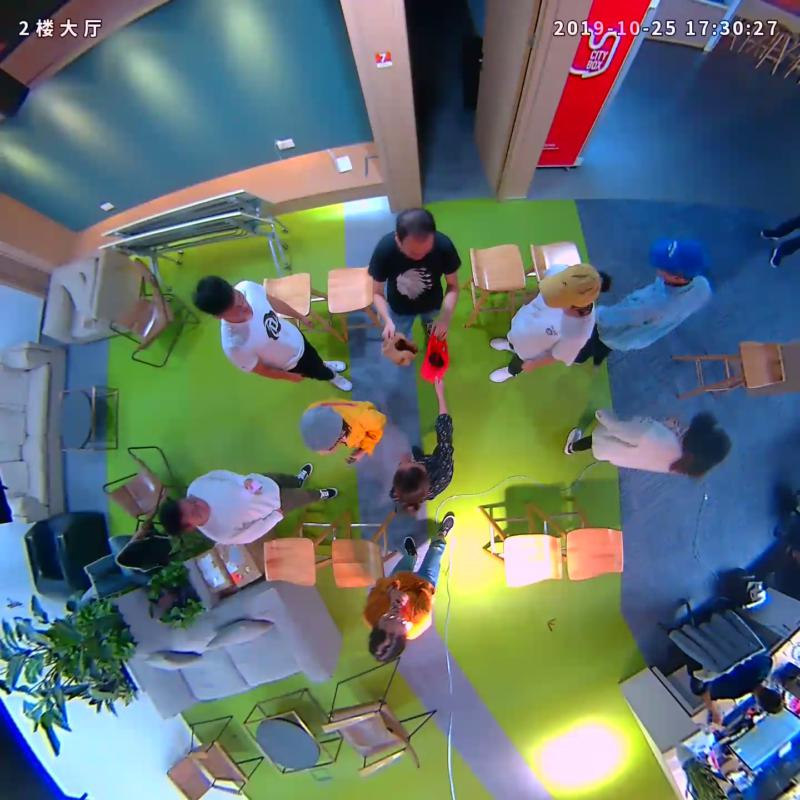head: (535, 261, 603, 311), (683, 411, 732, 469), (192, 275, 252, 322), (649, 238, 705, 286), (394, 207, 437, 260), (369, 607, 408, 664), (159, 495, 210, 536), (300, 404, 343, 451), (393, 459, 428, 502)
